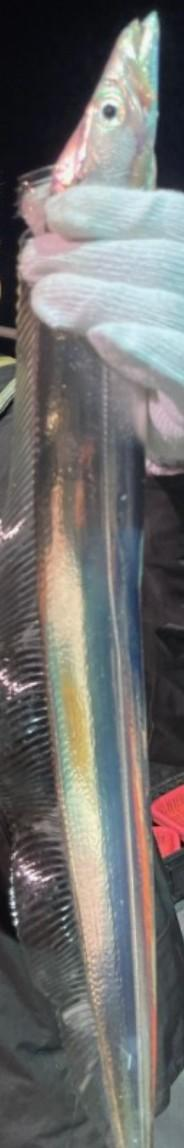fish: (0, 14, 159, 1147)
